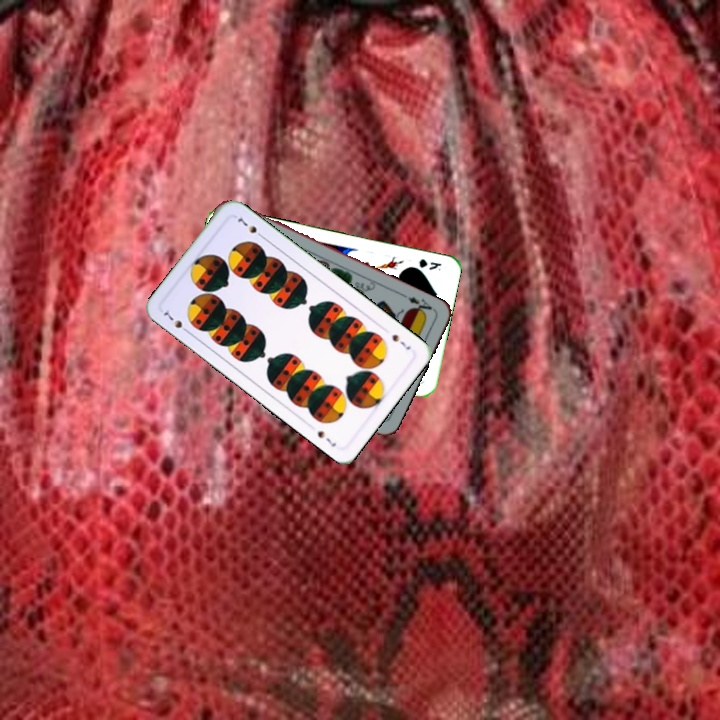EA: (399, 290, 437, 317)
GK: (415, 255, 444, 273)
S7: (160, 305, 193, 336), (388, 330, 413, 352)
